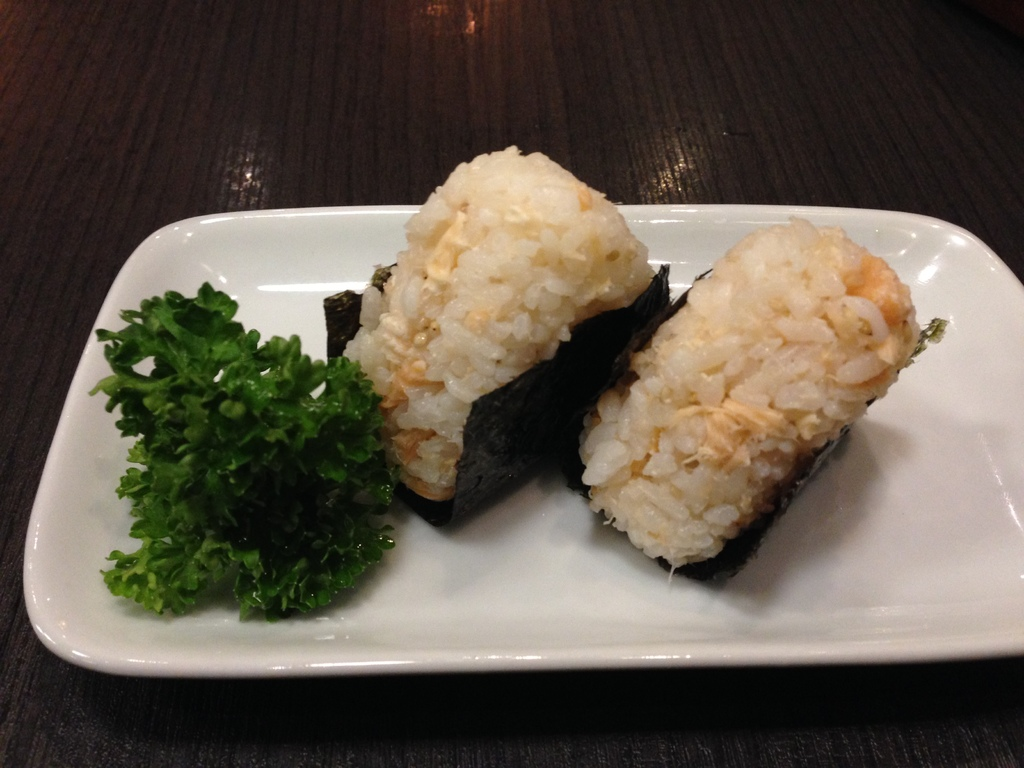sushi: (324, 147, 675, 536), (568, 221, 948, 576)
